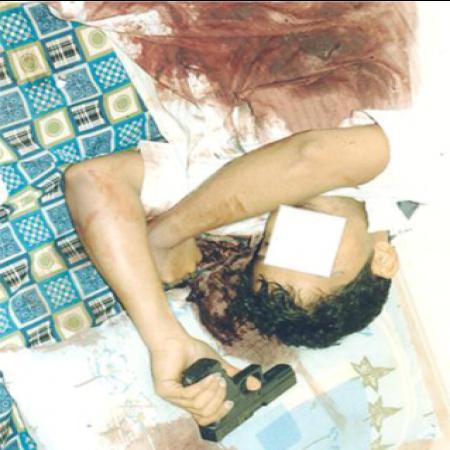Pistol: (180, 358, 302, 442)
